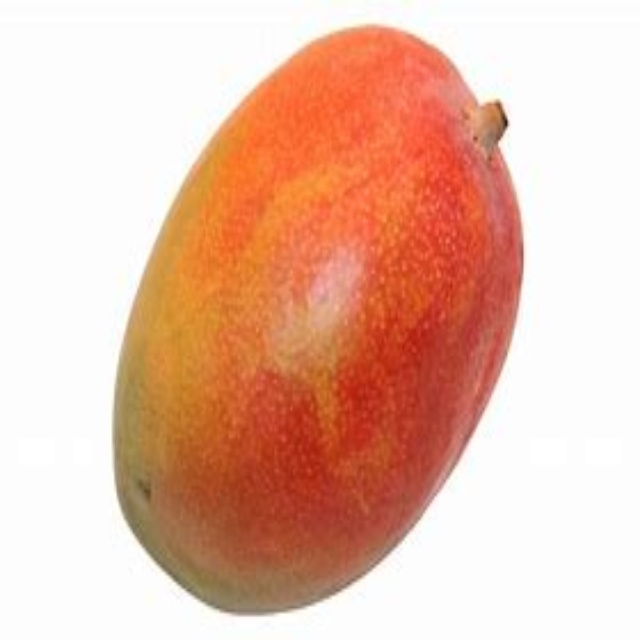mango: (111, 25, 520, 616)
